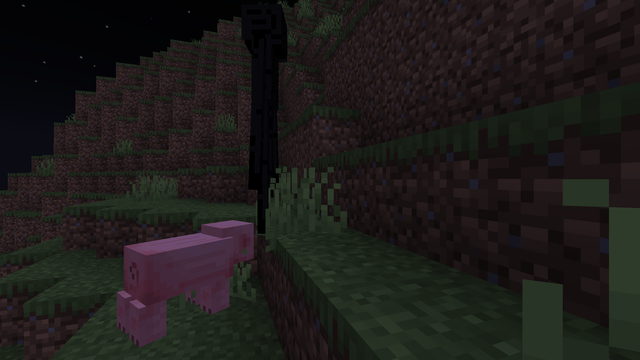cochons: (124, 230, 222, 343)
endermens: (241, 0, 292, 231)
